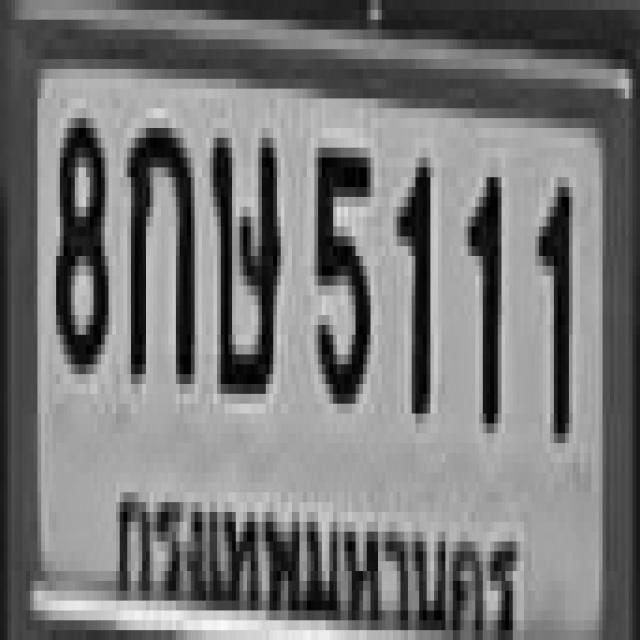1: (393, 148, 427, 404), (535, 177, 569, 433), (464, 168, 498, 424)
10GorGai: (123, 118, 191, 374)
48SorRueSi: (210, 128, 277, 384)
5: (310, 138, 366, 394)
8: (52, 108, 105, 364)
Bangkok: (106, 454, 525, 640)
